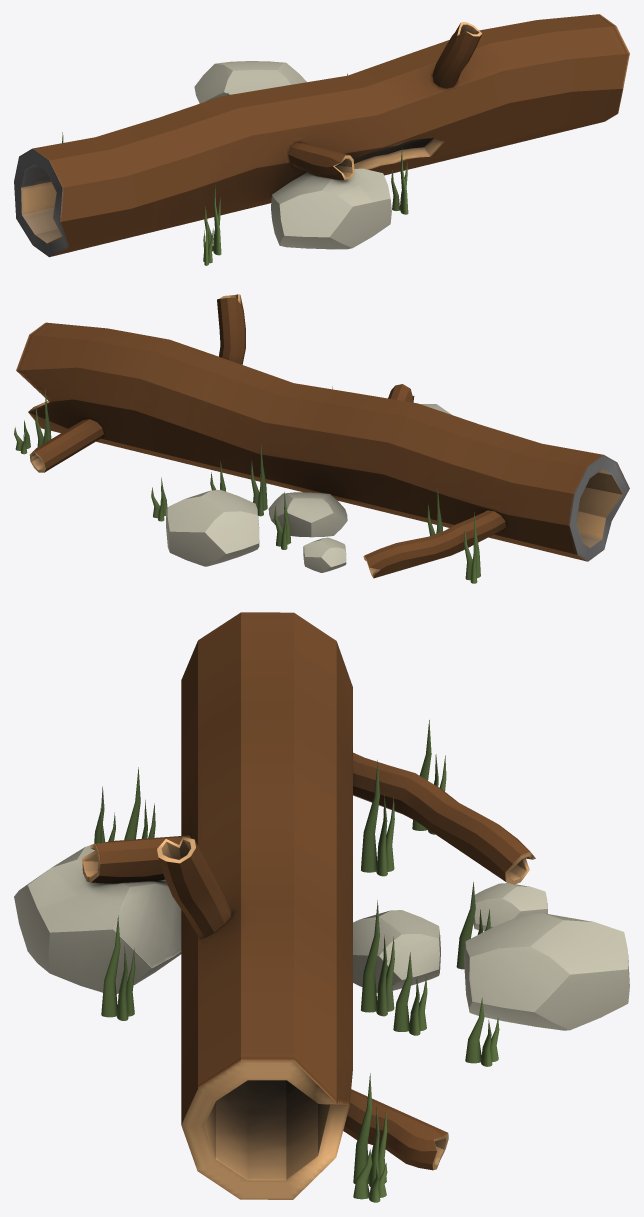
File: log_scene.glb
3 views of the same model, one above another, from view 1: azimuth 30°, elevation 25°; view 2: azimuth 150°, elevation 25°; view 3: azimuth 270°, elevation 25° (orthographic). The views are drawn at different scales.
Parts seen in each view (by area): view 1: pCylinder9, pPlatonic9, pCone25; view 2: pCylinder9, pPlatonic9, pCone25; view 3: pCylinder9, pPlatonic9, pCone25.
Boxes of the visible parts, bbox=[...] form: pCylinder9: bbox=[14, 14, 629, 257]; pPlatonic9: bbox=[194, 61, 391, 249]; pCone25: bbox=[62, 73, 408, 265]; pCylinder9: bbox=[16, 294, 629, 578]; pPlatonic9: bbox=[166, 404, 451, 572]; pCone25: bbox=[14, 386, 480, 583]; pCylinder9: bbox=[82, 612, 535, 1199]; pPlatonic9: bbox=[14, 845, 629, 1030]; pCone25: bbox=[94, 720, 499, 1202].
Size of the model in its own units: 13.09 by 3.34 by 7.6.
3 materials, 3 textured.
